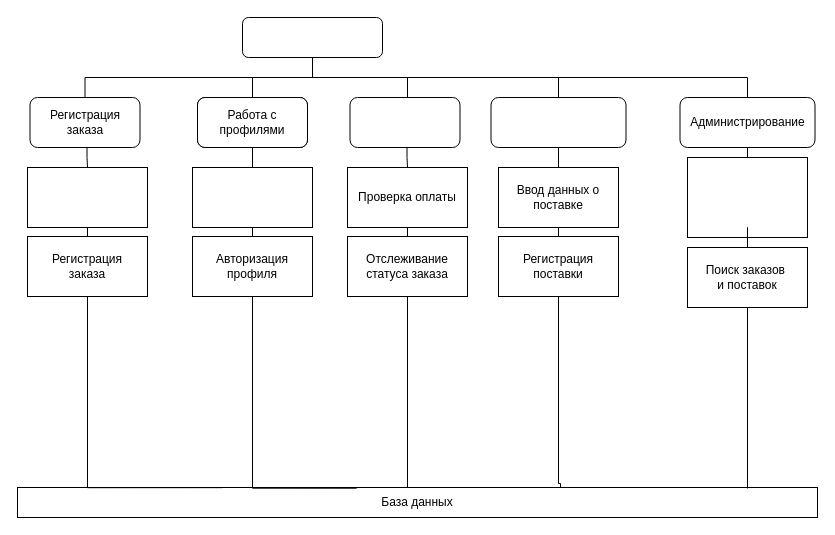
This 835x535 diagram has some shape labels left out. Here are the shapes that lost their labels. From the top down, the centre of each, then its label:
(312,37): ПС оптового склада
(404,122): Работа над заказами
(558,122): Управление поставками
(87,197): Ввод данных о заказе
(252,197): Регистрация профиля
(747,197): Формирование отчётов по деятельности
